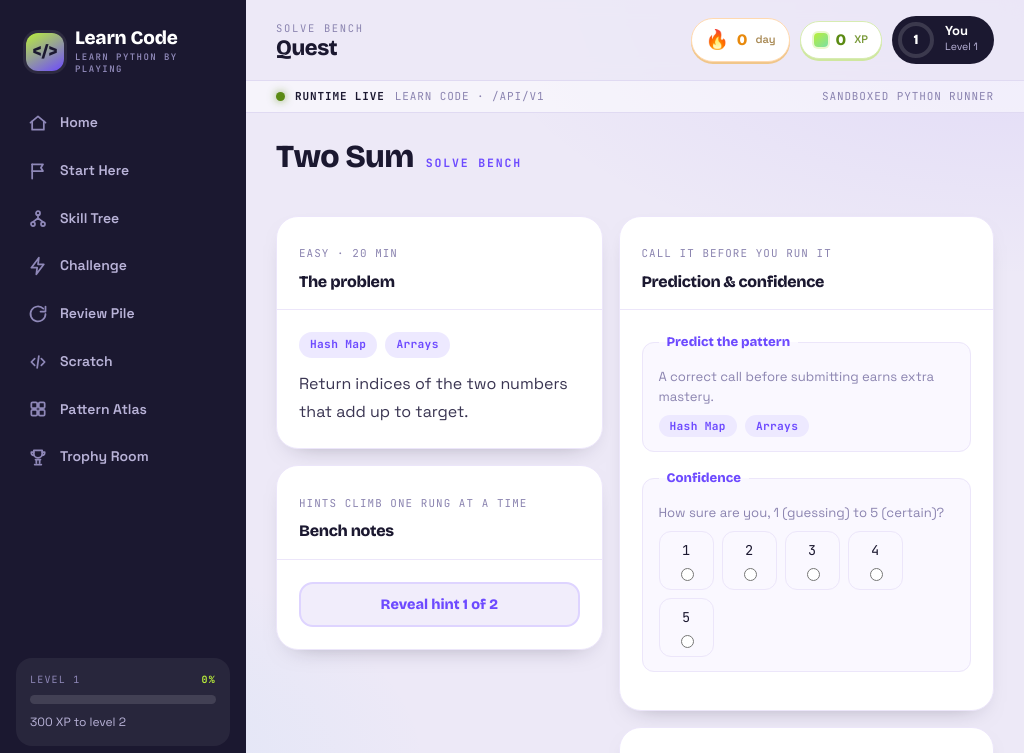
Test: ExerciseRoute submit flow › sends the predicted pattern, confidence, and source to /exercises/submit
Check: the text "Predict the pattern" is shown, box left=658, top=332, right=798, bottom=353
Click the button "Hash Map": (698,426) left=658, top=415, right=737, bottom=437
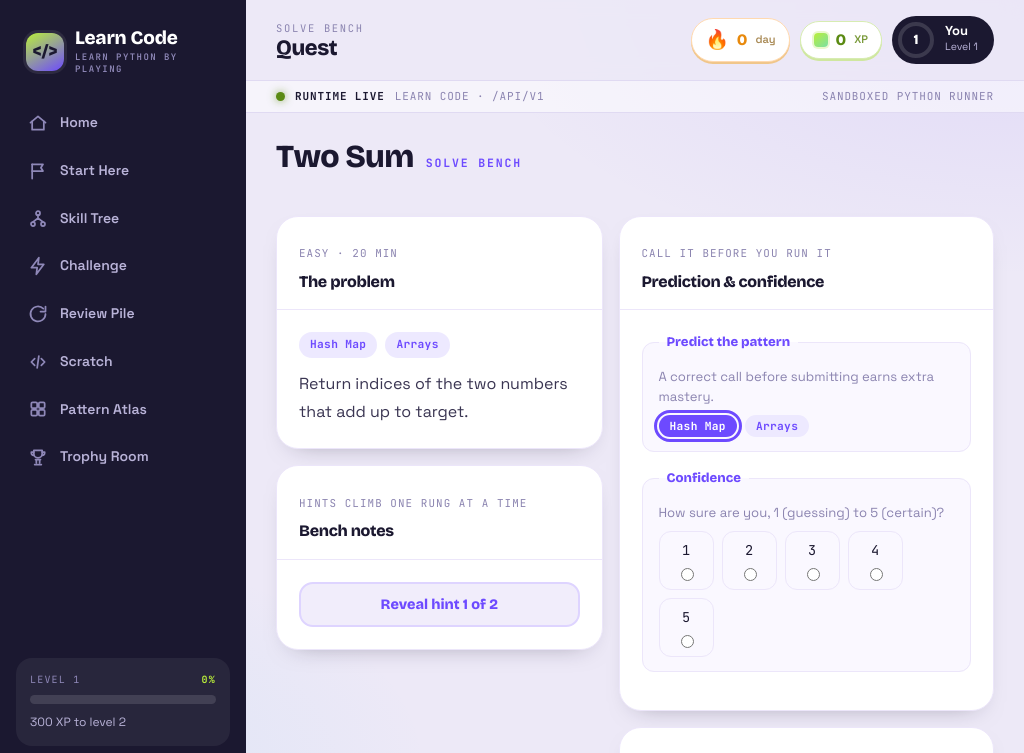
Click the radio button labelled "4": (876,575) left=870, top=568, right=882, bottom=581
(page scrolled)
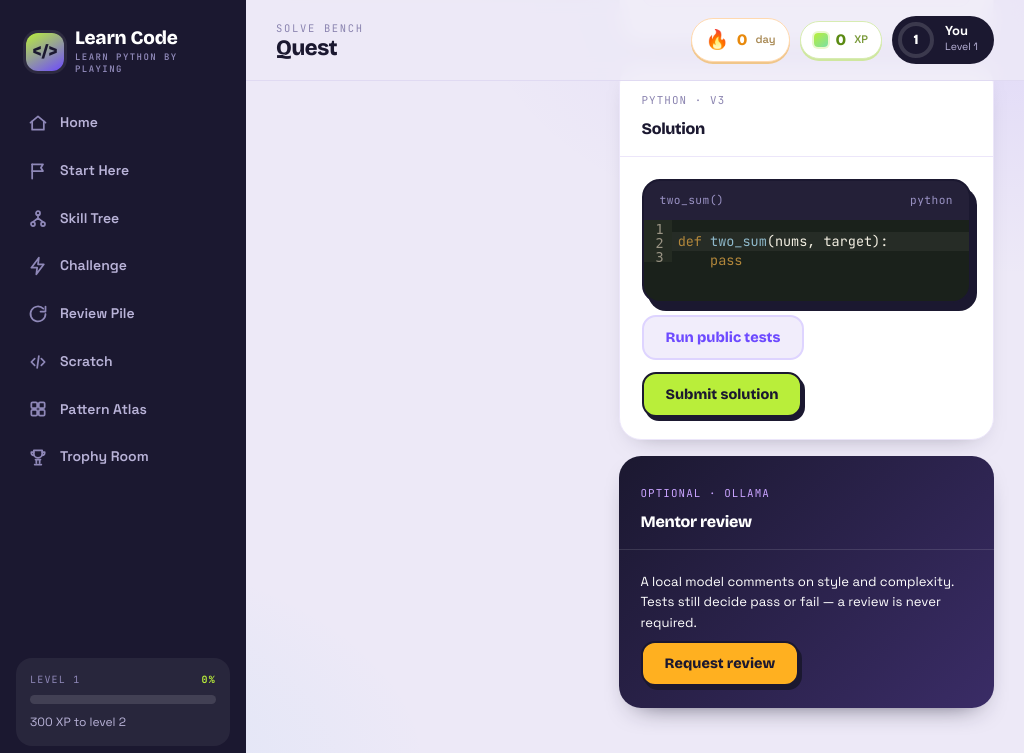
Click the button with aria-label "Submit for grading": (722,394) left=642, top=372, right=802, bottom=417
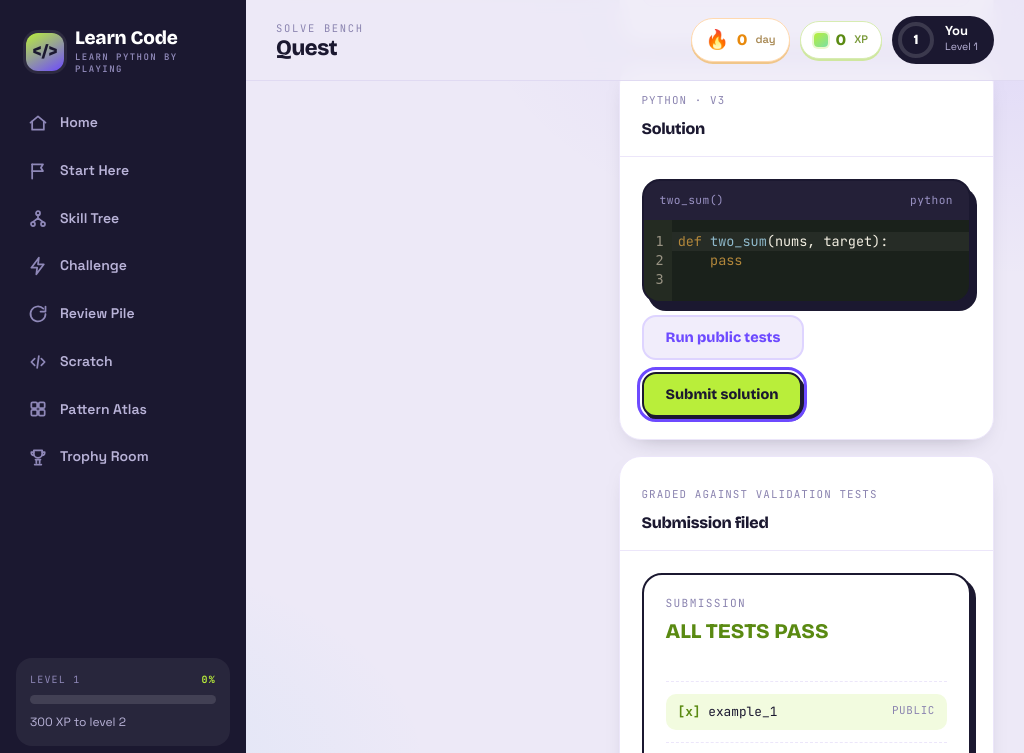
Check: the text "python" is shown, box left=910, top=192, right=953, bottom=209
Check: the text "ALL TESTS PASS" is shown, box left=666, top=619, right=828, bottom=644
